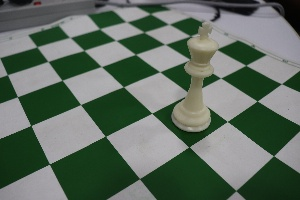white_king: (170, 10, 221, 144)
